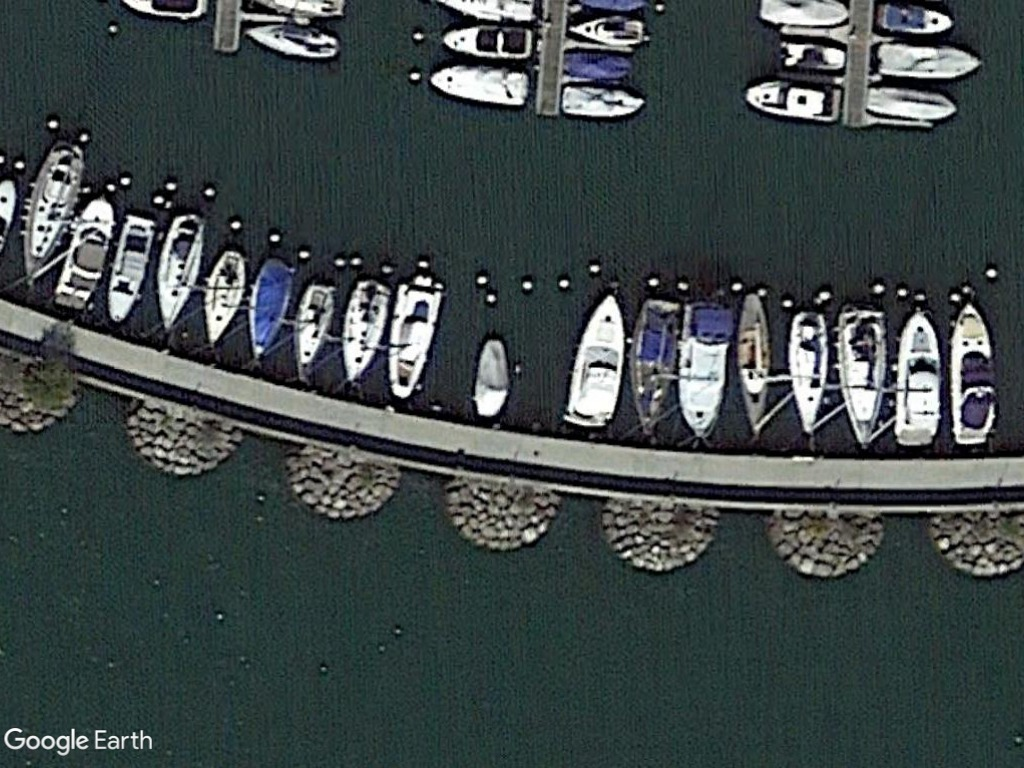boat: (14, 135, 92, 287), (560, 292, 630, 429), (48, 192, 123, 316), (623, 291, 684, 440), (677, 299, 740, 439), (837, 300, 892, 453), (891, 300, 946, 450), (946, 300, 999, 454), (385, 272, 448, 400), (151, 208, 209, 330), (732, 288, 774, 437), (787, 309, 833, 440), (337, 276, 390, 388), (98, 214, 155, 317), (241, 256, 296, 359), (739, 75, 845, 125), (199, 243, 249, 344), (427, 63, 535, 109), (289, 279, 337, 377), (873, 41, 986, 80), (242, 22, 342, 63), (436, 19, 534, 60), (864, 82, 961, 123), (471, 333, 514, 421), (559, 82, 644, 122), (879, 1, 959, 39), (568, 12, 649, 49), (561, 47, 638, 84), (777, 37, 848, 75)
